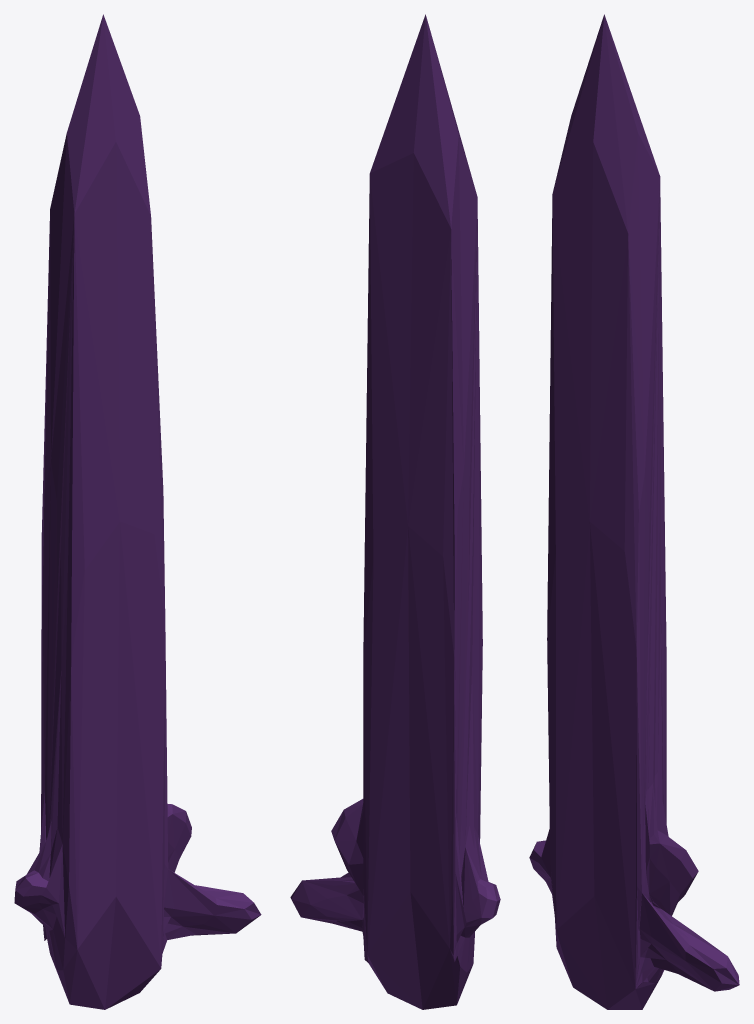
The picture shows the model from 3 angles, left to right: view 1: azimuth 30°, elevation 25°; view 2: azimuth 150°, elevation 25°; view 3: azimuth 330°, elevation 25°; orthographic projection.
Visible parts, largest first — view 1: 212_Cube.876; view 2: 212_Cube.876; view 3: 212_Cube.876.
Boxes of the visible parts, bbox=[...] form: 212_Cube.876: bbox=[14, 14, 261, 1009]; 212_Cube.876: bbox=[290, 14, 500, 1009]; 212_Cube.876: bbox=[529, 14, 739, 1009].
Bounding box in the file's own units: 2.85 × 11.97 × 0.7111.
